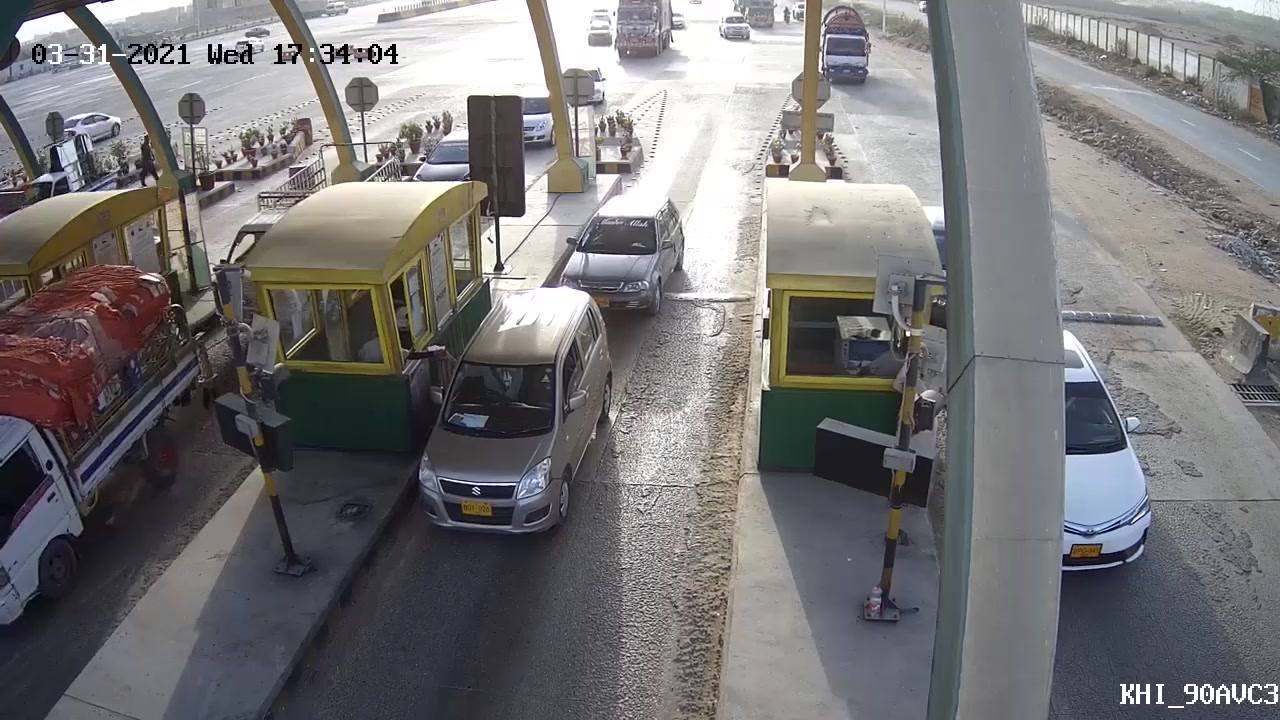F1: (417, 285, 622, 538)
